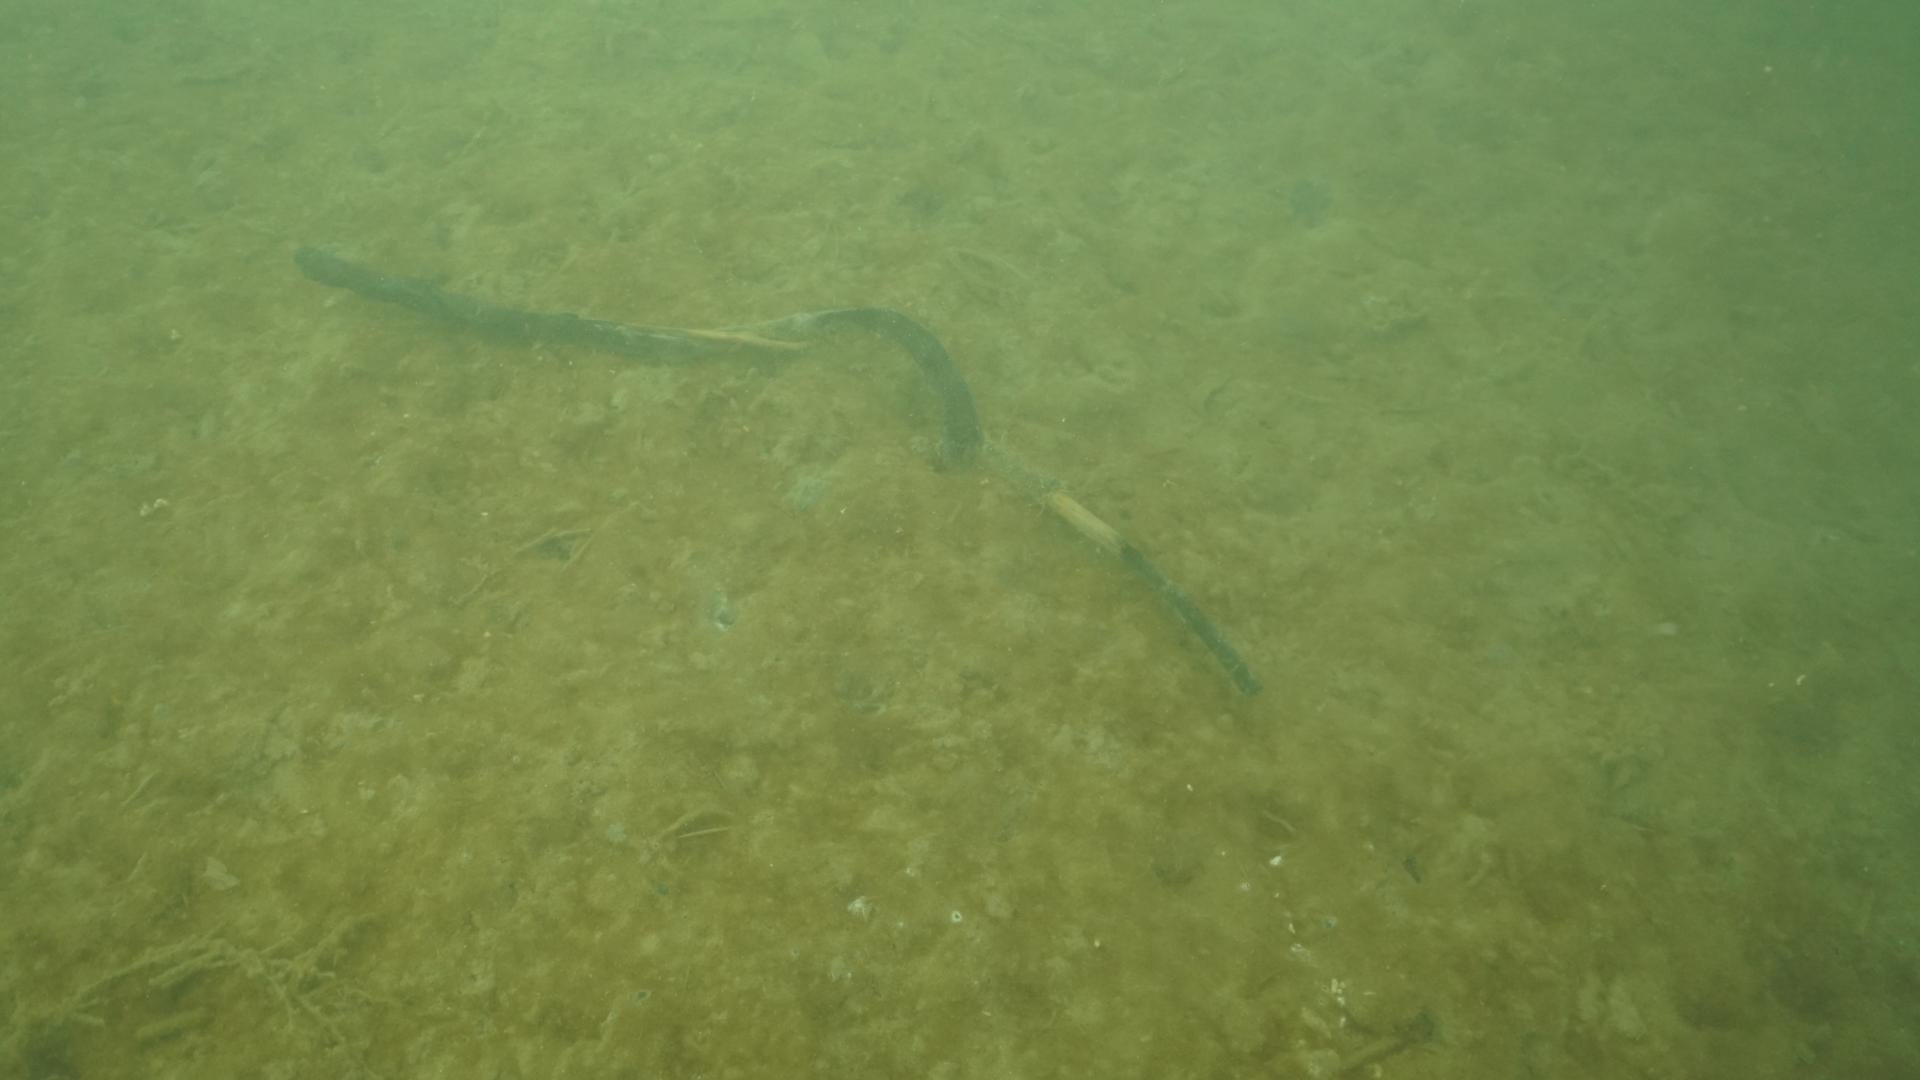wood: (294, 237, 1262, 694)
